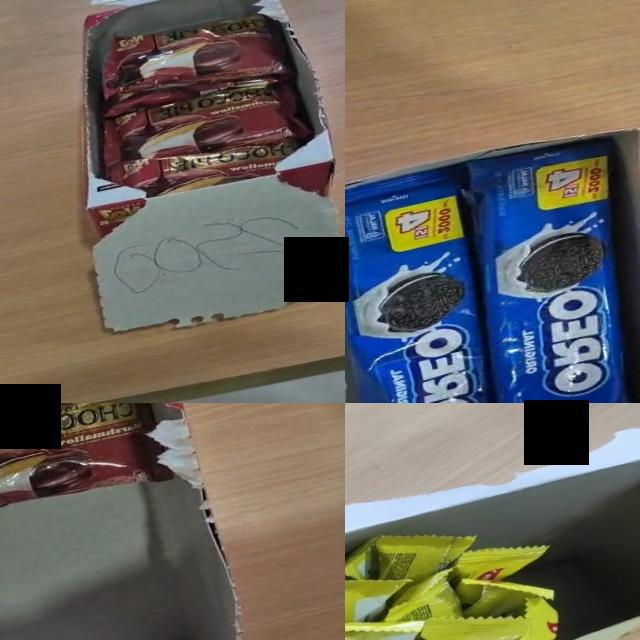Ahh: (367, 514, 485, 598), (446, 532, 558, 606), (454, 560, 559, 628), (376, 566, 466, 635), (345, 559, 419, 633), (415, 595, 534, 640), (345, 600, 437, 640), (345, 536, 391, 614), (503, 591, 567, 640)
Chocopie: (96, 71, 316, 184), (90, 0, 294, 117), (0, 403, 174, 537), (104, 118, 309, 210)
Oreo: (415, 125, 640, 403), (345, 159, 536, 403)
